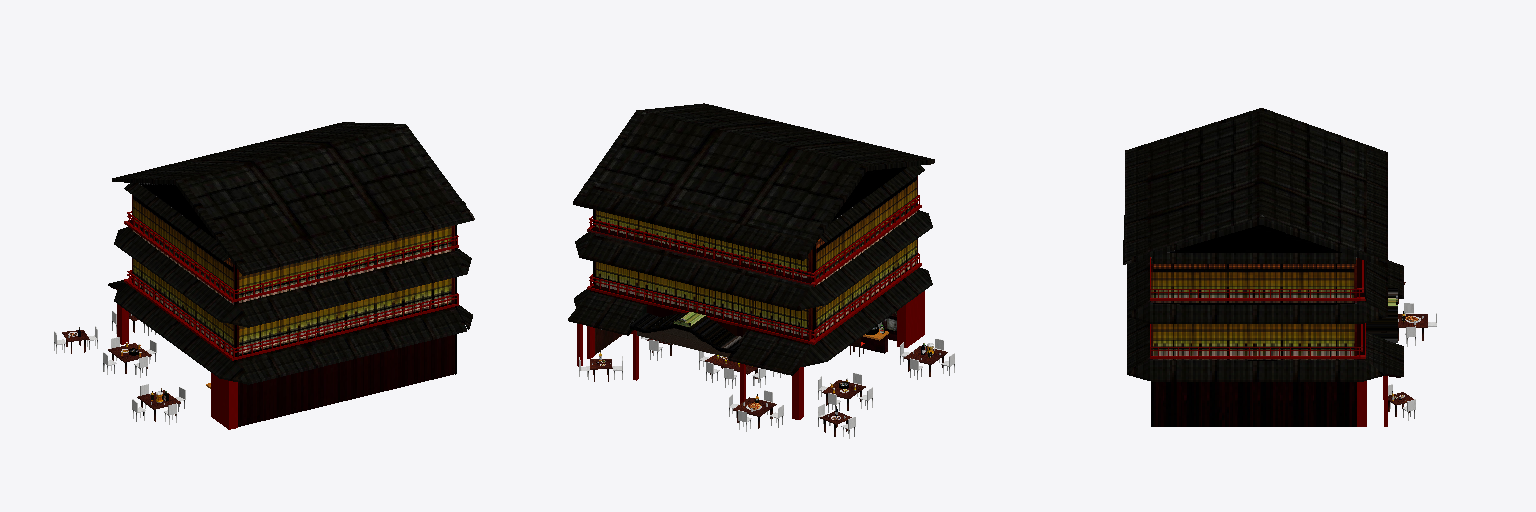
3 renders of one model, left to right at view 1: azimuth 30°, elevation 25°; view 2: azimuth 150°, elevation 25°; view 3: azimuth 270°, elevation 25°, orthographic.
Bounding box in the file's own units: 12.26 × 8 × 10.92.
Materials: 6 (4 with a texture image).